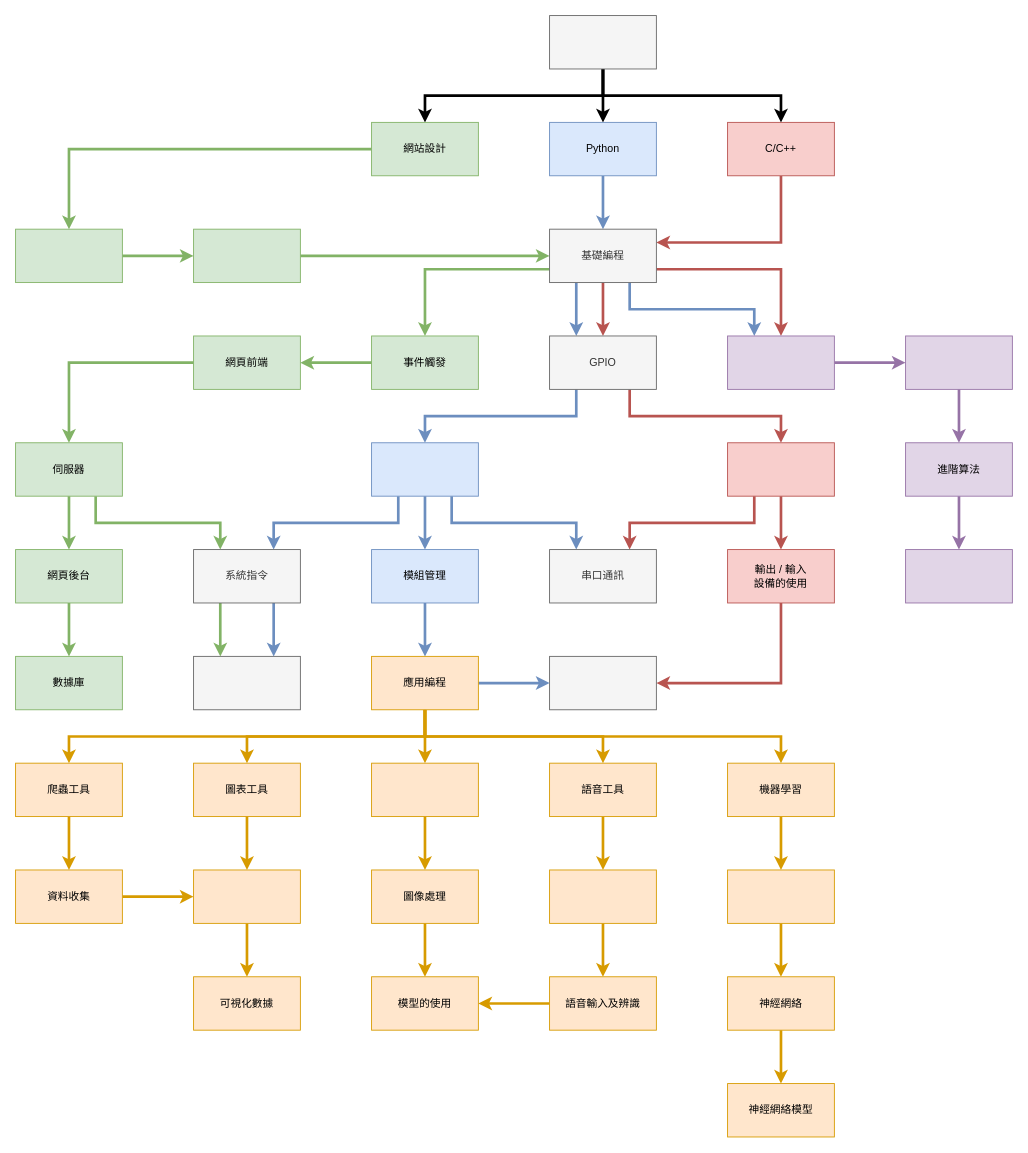
This 1028x1153 diagram has some shape labels left out. The box of each missing label's shape, as (x1, y1, x2, y2) in pixels:
Arduino STM32: (727, 442, 834, 496)
HTML CSS: (15, 228, 122, 283)
Javascript JQuery: (193, 228, 300, 283)
Linux-based devices: (371, 442, 478, 496)
ROS: (549, 655, 656, 710)
圖像工具: (371, 762, 478, 817)
數據結構: (727, 335, 834, 389)
程式設計: (549, 15, 656, 69)
算法入門: (905, 335, 1012, 389)
經典模型: (727, 869, 834, 923)
語音輸出: (549, 869, 656, 923)
資料處理: (193, 869, 300, 923)
資訊奧林匹克: (905, 549, 1012, 603)
開發環境: (193, 655, 300, 710)
